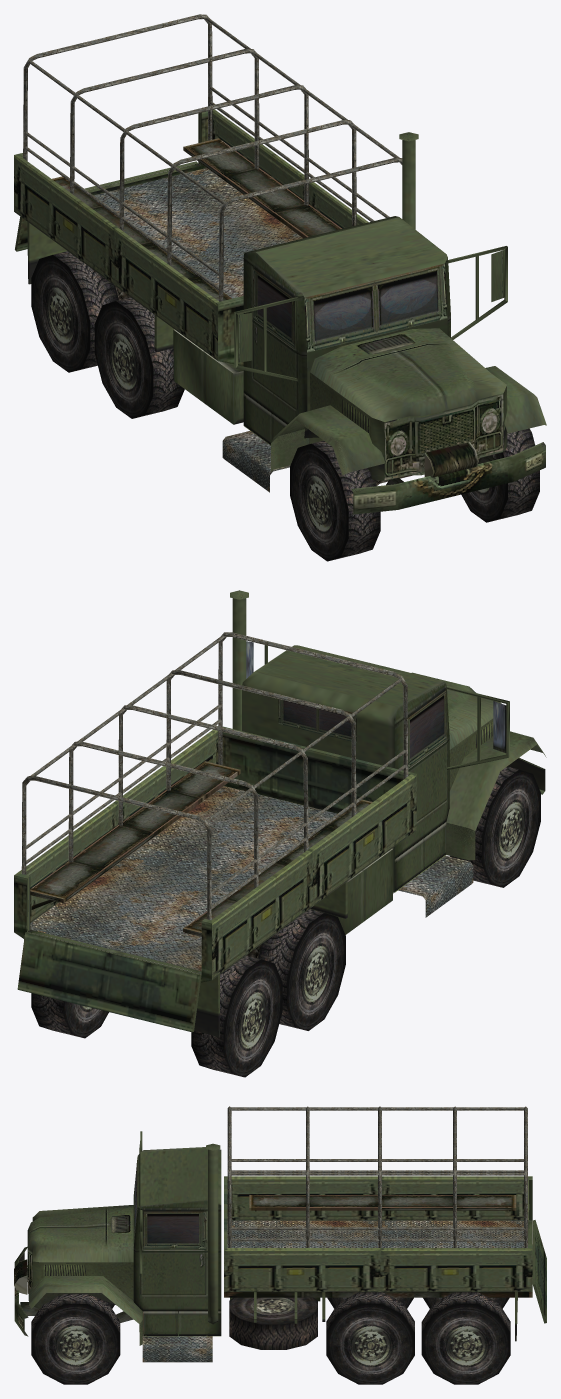
The model's file is F5tonD.glb.
The picture shows the model from 3 angles, top to bottom: view 1: azimuth 30°, elevation 25°; view 2: azimuth 150°, elevation 25°; view 3: azimuth 270°, elevation 25°; orthographic projection. The views are drawn at different scales.
Parts seen in each view (by area): view 1: _F5tonD; view 2: _F5tonD; view 3: _F5tonD.
Part boxes in pixels (box(x1,y1,x2,y2)): _F5tonD: box(14, 14, 546, 561); _F5tonD: box(14, 590, 546, 1077); _F5tonD: box(14, 1106, 546, 1384).
Size of the model in its own units: 4.28 by 4.7 by 9.6.
3 materials, 3 textured.
